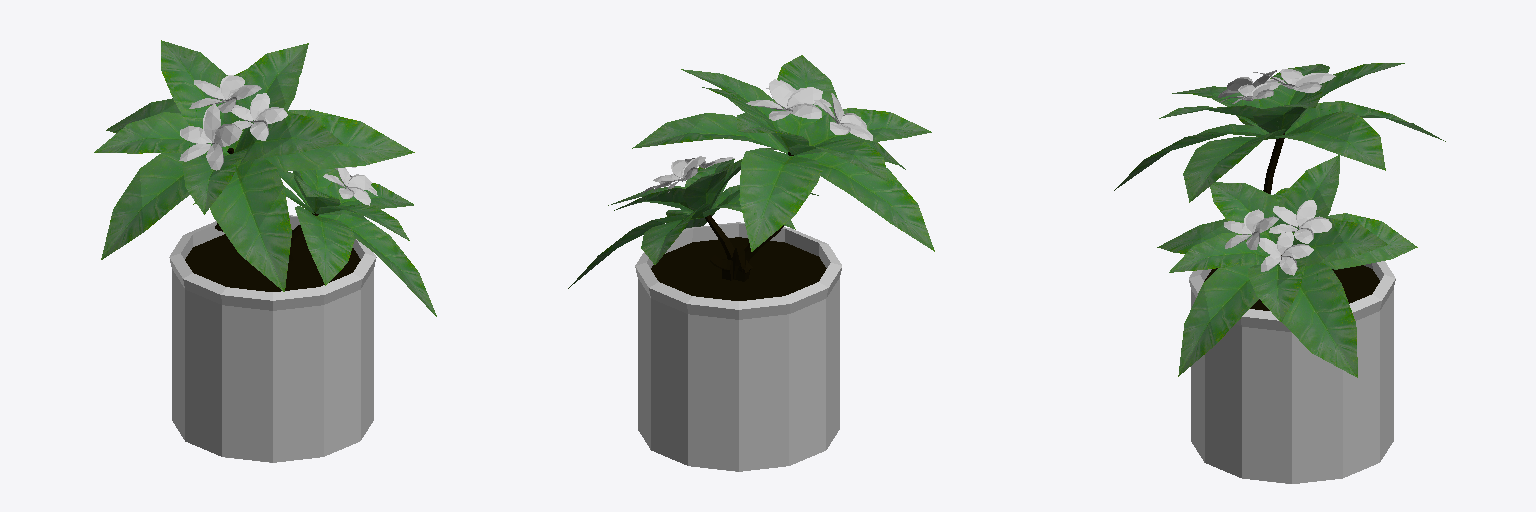
3 views of the same model, side by side, from view 1: azimuth 30°, elevation 25°; view 2: azimuth 150°, elevation 25°; view 3: azimuth 270°, elevation 25° (orthographic).
Parts seen in each view (by area): view 1: Cube.002, Plane.013_Plane.005, Plane.001_Plane.005, Circle, Plane.011_Plane.005, Plane.010_Plane.005, Plane.012_Plane.005, Plane.014_Plane.005, Plane.008_Plane.005, Plane.026_Plane.005, Plane.039_Plane.005, Plane.015_Plane.005 (+5 smaller); view 2: Cube.002, Circle, Plane.007_Plane.005, Plane.001_Plane.005, Plane.009_Plane.005, Plane.015_Plane.005, Plane.014_Plane.005, Plane.008_Plane.005, Plane, Plane.012_Plane.005, Plane.035_Plane.005, Plane.036_Plane.005 (+3 smaller); view 3: Cube.002, Plane.037_Plane.005, Plane.039_Plane.005, Plane.009_Plane.005, Plane.011_Plane.005, Plane.038_Plane.005, Plane.036_Plane.005, Plane.032_Plane.005, Plane.034_Plane.005, Plane.040_Plane.005, Plane.035_Plane.005, Plane.013_Plane.005 (+8 smaller).
Part boxes in pixels (bbox=[...]): Cube.002: bbox=[169, 215, 376, 462]; Plane.013_Plane.005: bbox=[210, 158, 291, 291]; Plane.001_Plane.005: bbox=[101, 153, 189, 259]; Circle: bbox=[185, 230, 360, 291]; Plane.011_Plane.005: bbox=[265, 109, 414, 171]; Plane.010_Plane.005: bbox=[161, 40, 228, 153]; Plane.012_Plane.005: bbox=[223, 43, 308, 151]; Plane.014_Plane.005: bbox=[234, 111, 342, 161]; Plane.008_Plane.005: bbox=[94, 112, 229, 155]; Plane.026_Plane.005: bbox=[295, 206, 354, 285]; Plane.039_Plane.005: bbox=[318, 214, 436, 316]; Plane.015_Plane.005: bbox=[182, 149, 247, 214]; Cube.002: bbox=[635, 222, 841, 471]; Circle: bbox=[651, 237, 826, 300]; Plane.007_Plane.005: bbox=[739, 148, 822, 251]; Plane.001_Plane.005: bbox=[797, 152, 934, 251]; Plane.009_Plane.005: bbox=[632, 113, 787, 153]; Plane.015_Plane.005: bbox=[794, 108, 931, 155]; Plane.014_Plane.005: bbox=[773, 55, 837, 135]; Plane.008_Plane.005: bbox=[789, 139, 889, 182]; Plane: bbox=[705, 152, 793, 281]; Plane.012_Plane.005: bbox=[681, 69, 779, 135]; Plane.035_Plane.005: bbox=[641, 203, 709, 264]; Plane.036_Plane.005: bbox=[683, 163, 730, 210]; Cube.002: bbox=[1189, 261, 1395, 483]; Plane.037_Plane.005: bbox=[1282, 263, 1357, 377]; Plane.039_Plane.005: bbox=[1178, 265, 1258, 376]; Plane.009_Plane.005: bbox=[1275, 111, 1385, 170]; Plane.011_Plane.005: bbox=[1183, 129, 1285, 202]; Plane.038_Plane.005: bbox=[1292, 218, 1387, 265]; Plane.036_Plane.005: bbox=[1273, 155, 1339, 242]; Plane.032_Plane.005: bbox=[1169, 233, 1268, 272]; Plane.034_Plane.005: bbox=[1210, 182, 1278, 255]; Plane.040_Plane.005: bbox=[1248, 257, 1305, 321]; Plane.035_Plane.005: bbox=[1324, 213, 1417, 269]; Plane.013_Plane.005: bbox=[1114, 124, 1268, 190].
Bounding box in the file's own units: 3.82 × 4.14 × 3.43.
Materials: 4 (1 with a texture image).